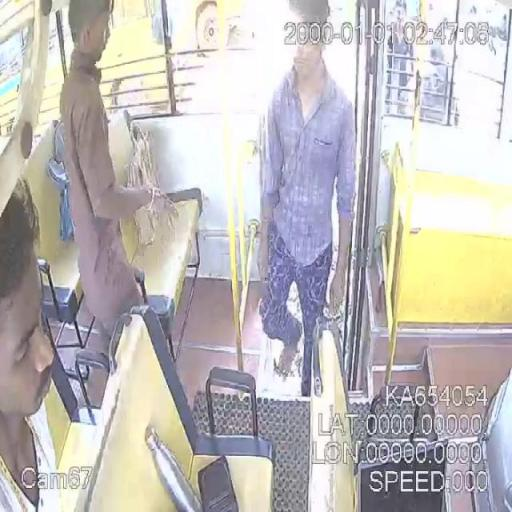persona: (57, 0, 179, 355), (256, 1, 358, 397), (0, 175, 61, 511)
